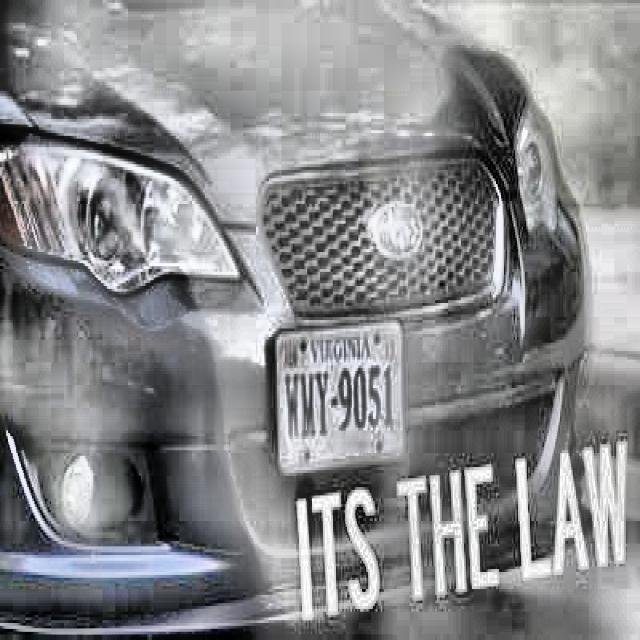license_plate: (277, 323, 401, 462)
